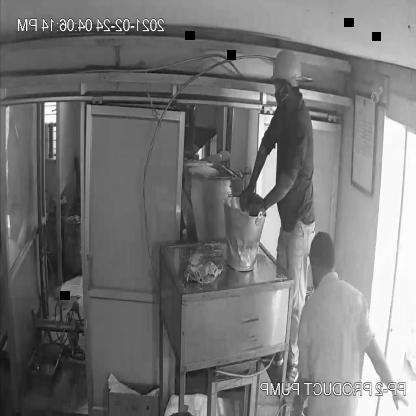helmet: (268, 43, 307, 92)
